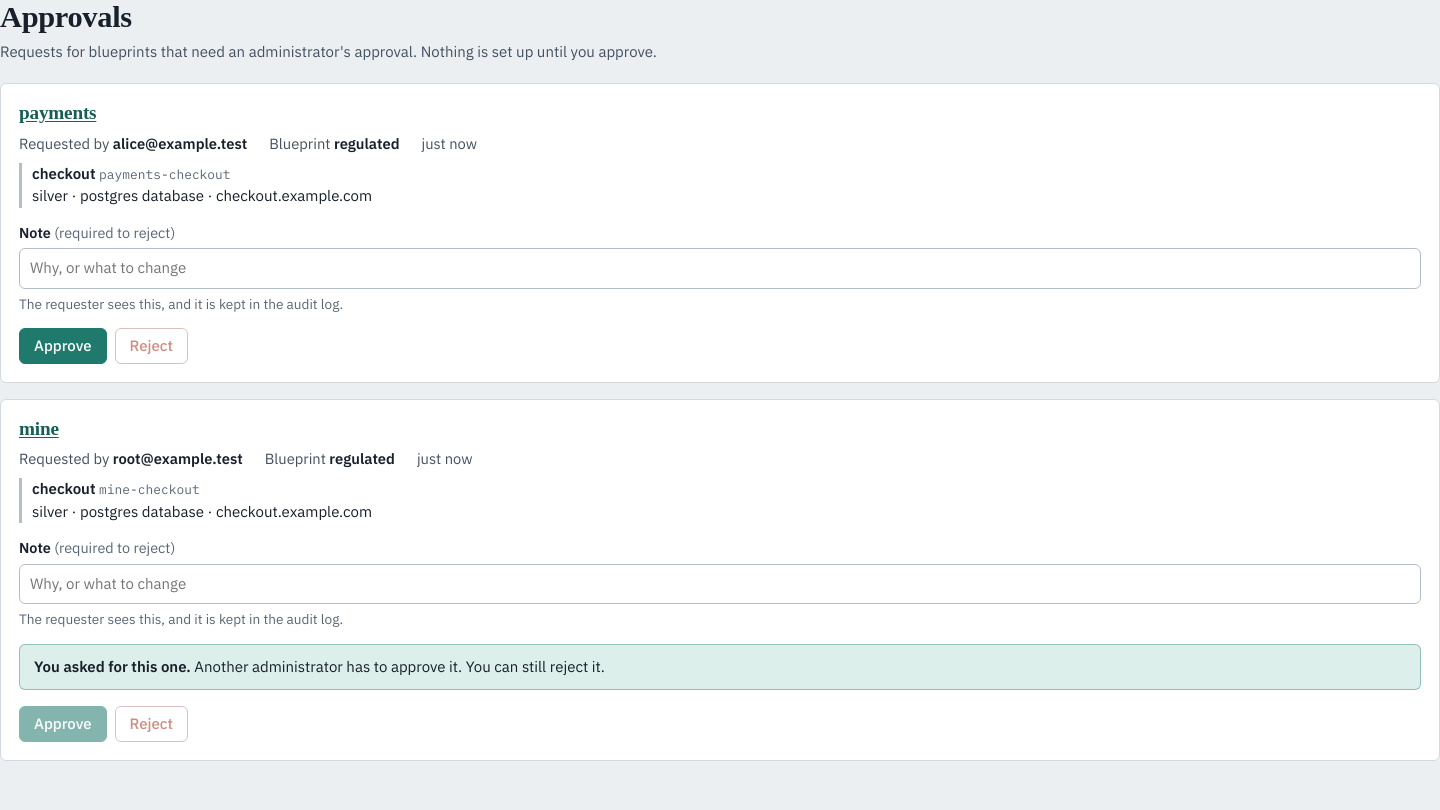
Test: Approvals queue › will not let a reject go out without a reason
Expected: the button "Reject" below "payments-checkout" is disabled, [114,328,188,364]
Type "no" into the field labelled "Note (required to reject)" below "payments-checkout" at (720, 268), box [19,248,1421,289]
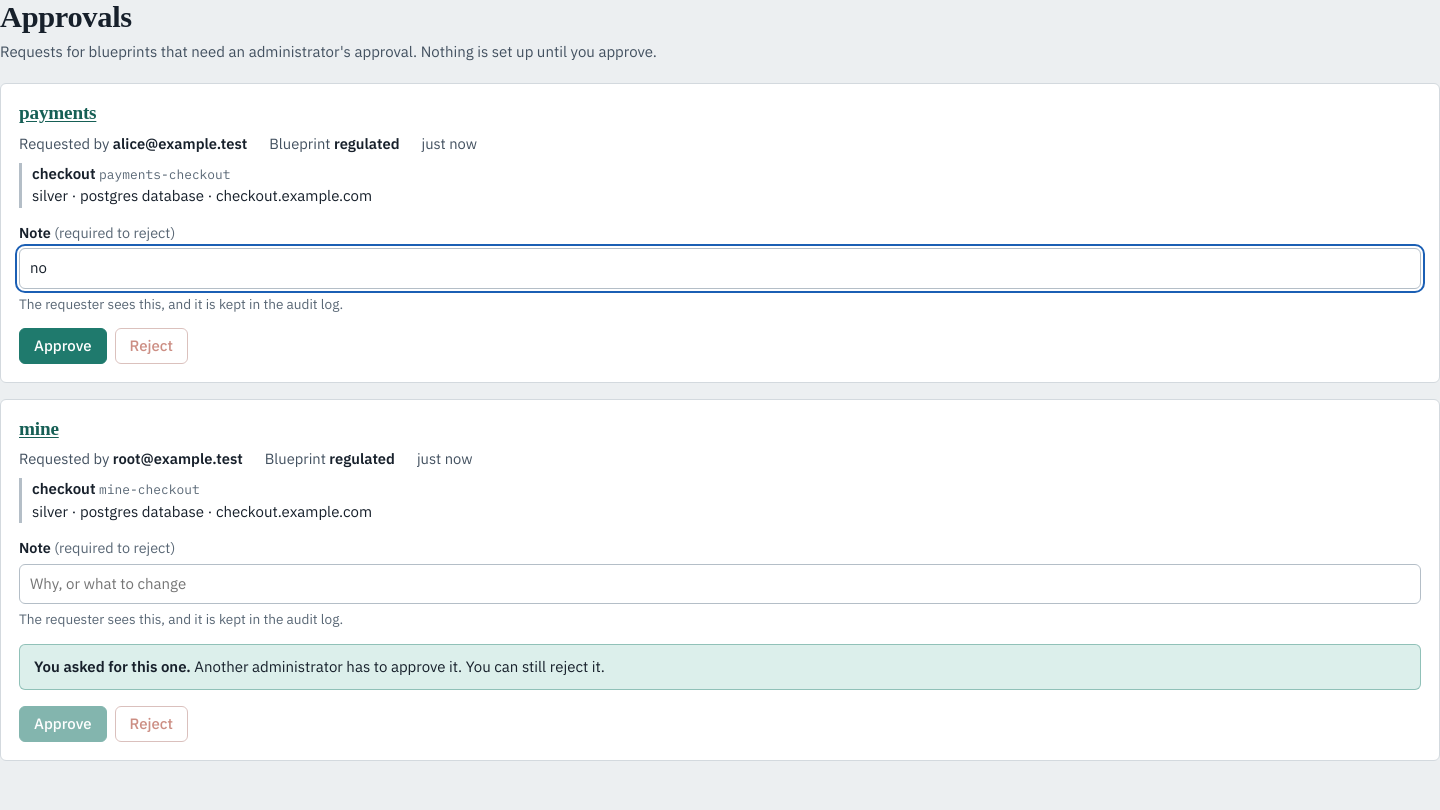
Expected: the button "Reject" below "payments-checkout" is disabled, [114,328,188,364]
Type " thanks" into the field labelled "Note (required to reject)" below "payments-checkout" at (720, 268), box [19,248,1421,289]
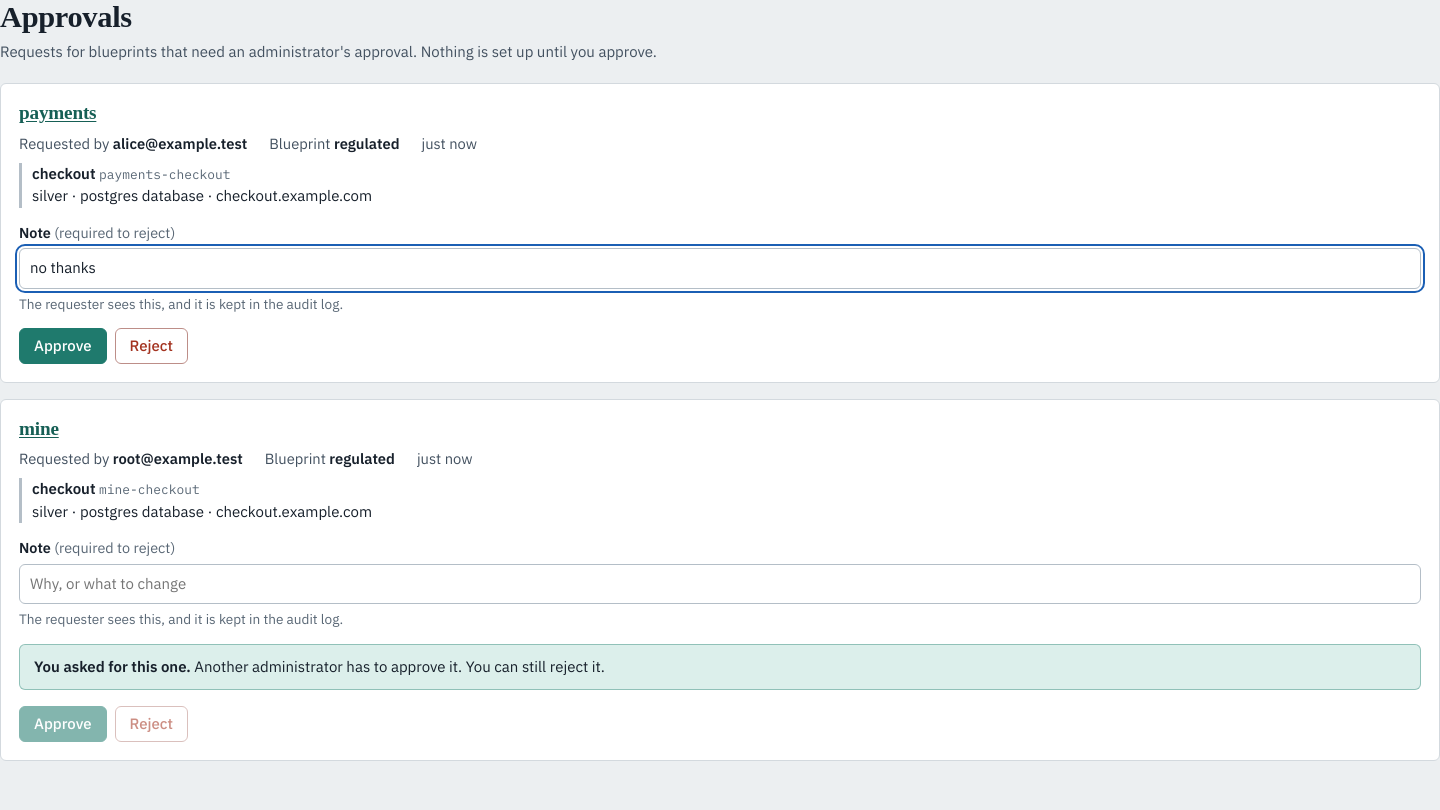
Expected: the button "Reject" below "payments-checkout" is enabled
Click the button "Reject" below "payments-checkout" at (151, 346), box [114,328,188,364]
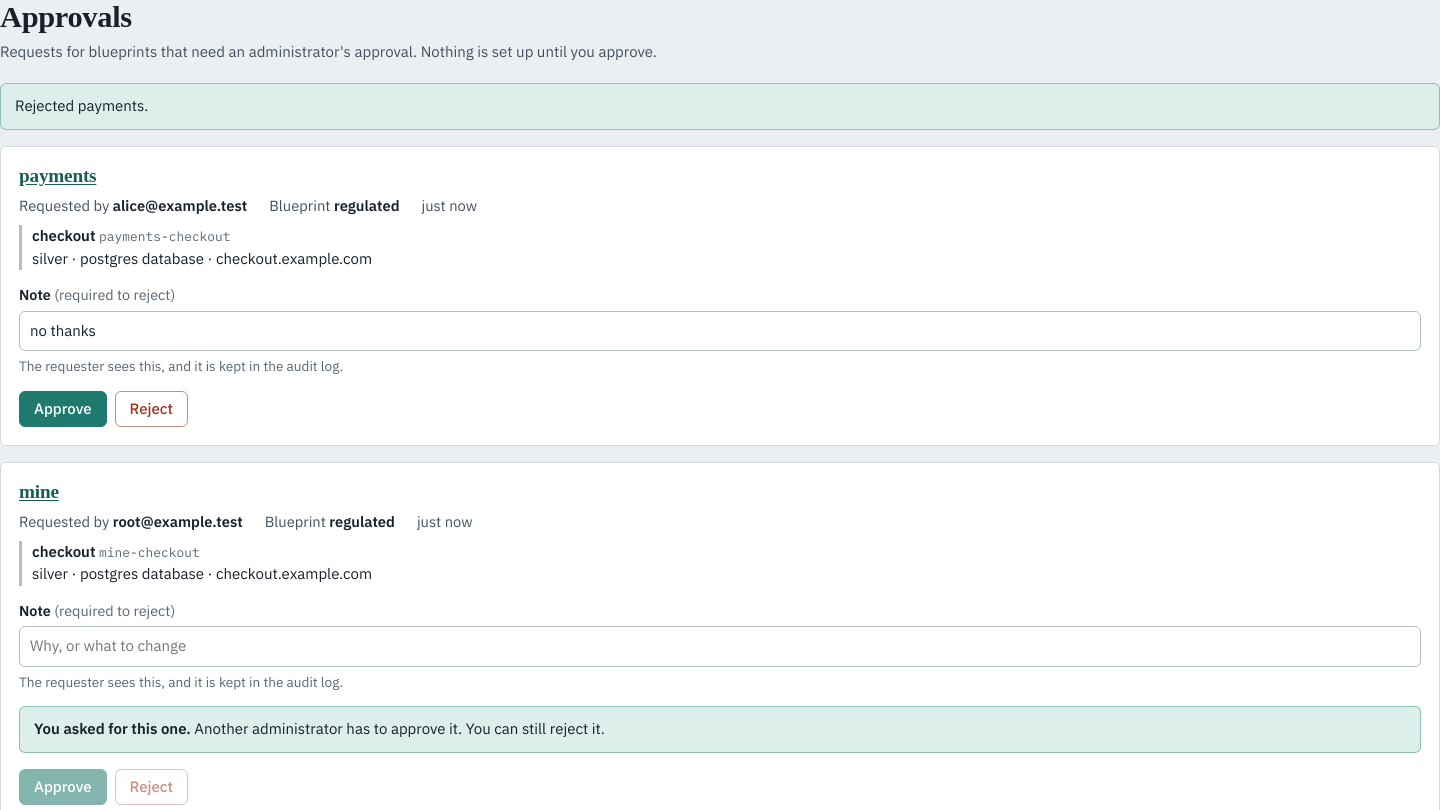
Expected: the text "Rejected payments." is shown, [0,84,1439,130]
